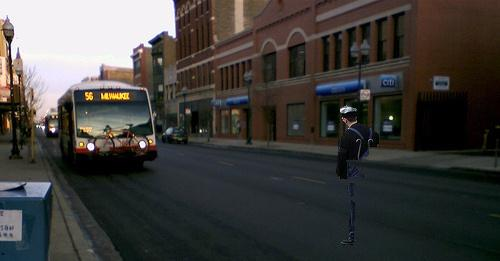tampered: (337, 106, 379, 245)
